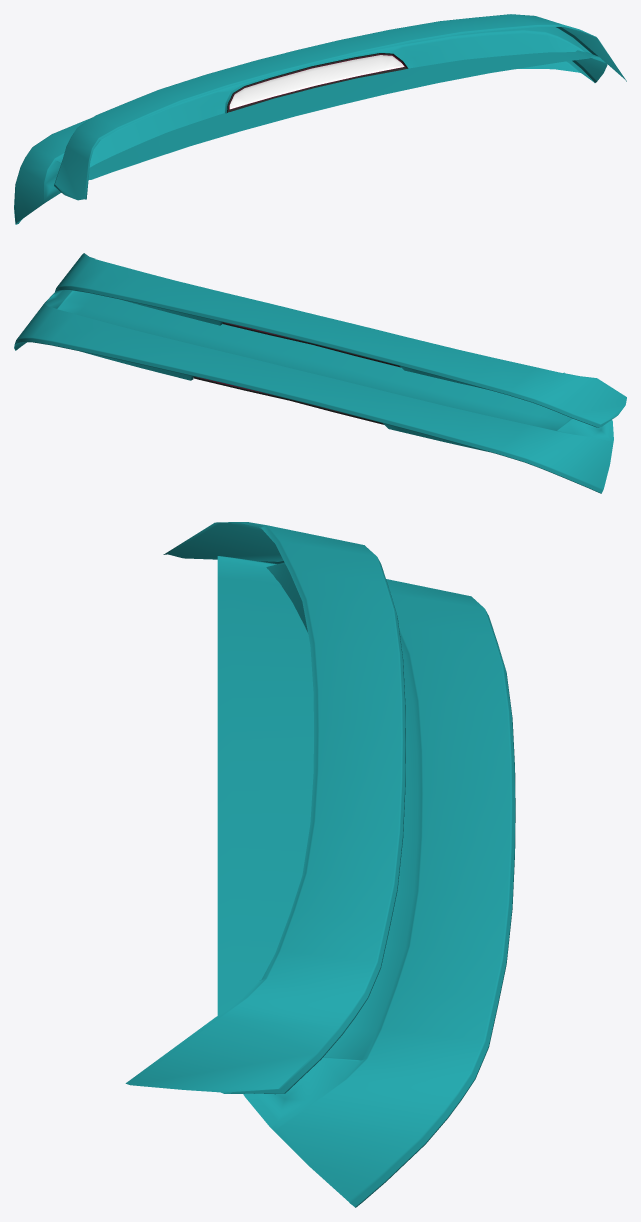
The model's file is car spoiler 5.glb.
The picture shows the model from 3 angles, top to bottom: view 1: azimuth 30°, elevation 25°; view 2: azimuth 150°, elevation 25°; view 3: azimuth 270°, elevation 25°; orthographic projection. The views are drawn at different scales.
Parts seen in each view (by area): view 1: RearDoor.006, RearDoor.005; view 2: RearDoor.005, RearDoor.006; view 3: RearDoor.005, RearDoor.006.
Part boxes in pixels (x1=…): RearDoor.006: x1=54, y1=14, x2=626, y2=200; RearDoor.005: x1=14, y1=50, x2=607, y2=224; RearDoor.005: x1=14, y1=290, x2=613, y2=493; RearDoor.006: x1=54, y1=253, x2=626, y2=427; RearDoor.005: x1=217, y1=556, x2=515, y2=1207; RearDoor.006: x1=125, y1=522, x2=405, y2=1094.
Bounding box in the file's own units: 1.24 × 0.203 × 0.362.
